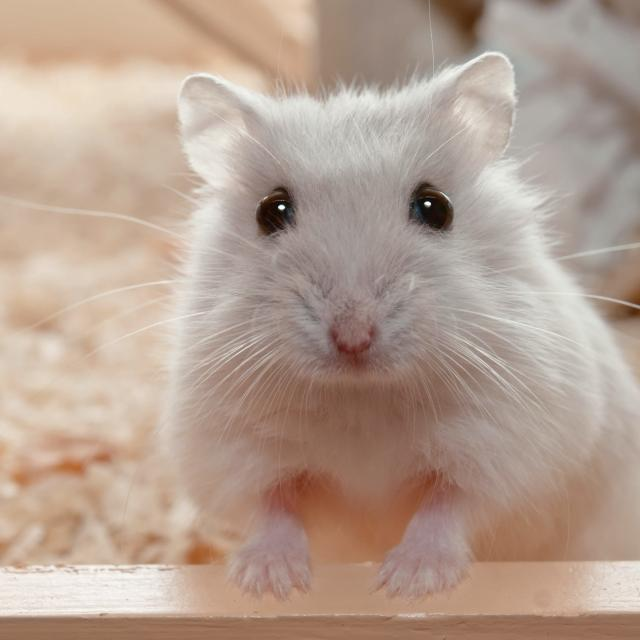hamster: (167, 52, 640, 598)
